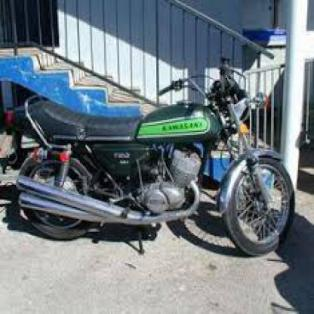Motocicleta: (8, 61, 296, 264)
